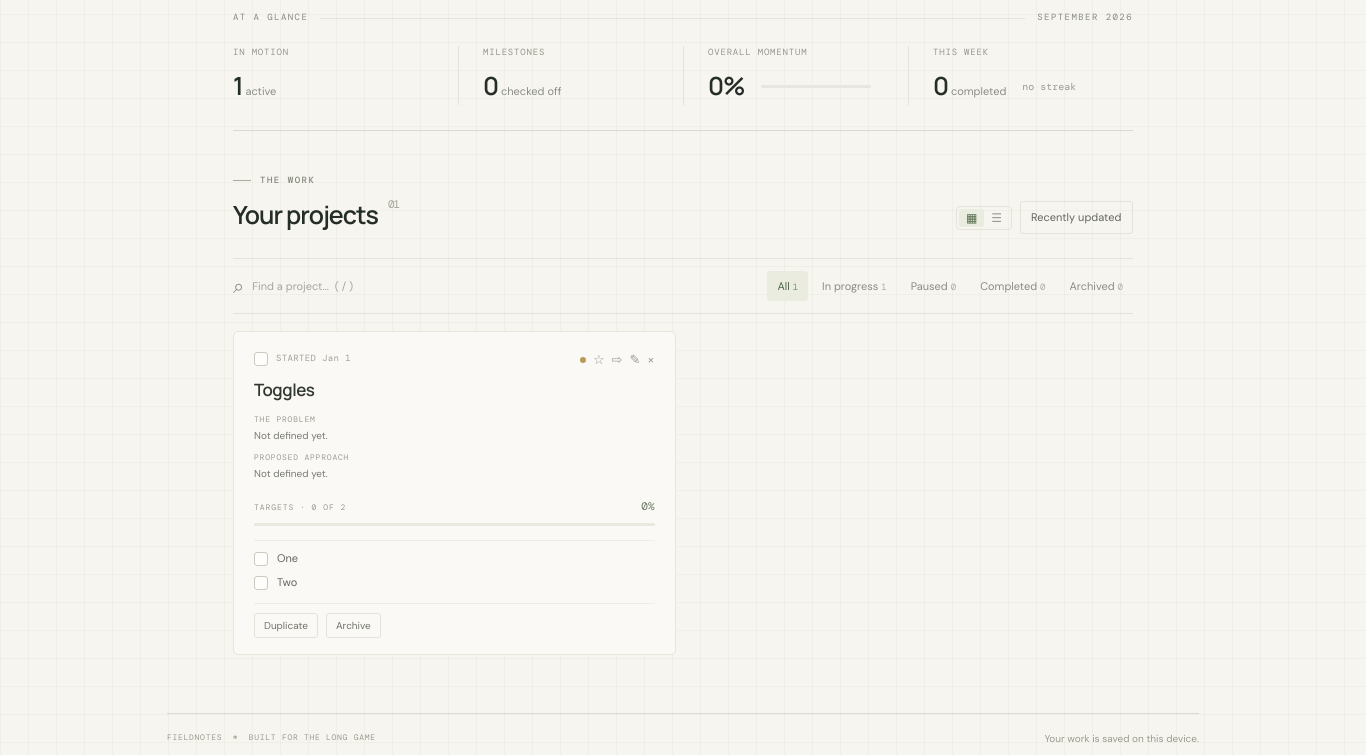
Test: App: toggling targets › checks a target and updates the percentage
This screenshot has width=1366, height=755.
(page scrolled)
Expected: the text "0%" in the row of "TARGETS ·" is shown, [641,498,654,515]
Click the checkbox named "mark one complete" at [261, 559], box [254,552,268,566]
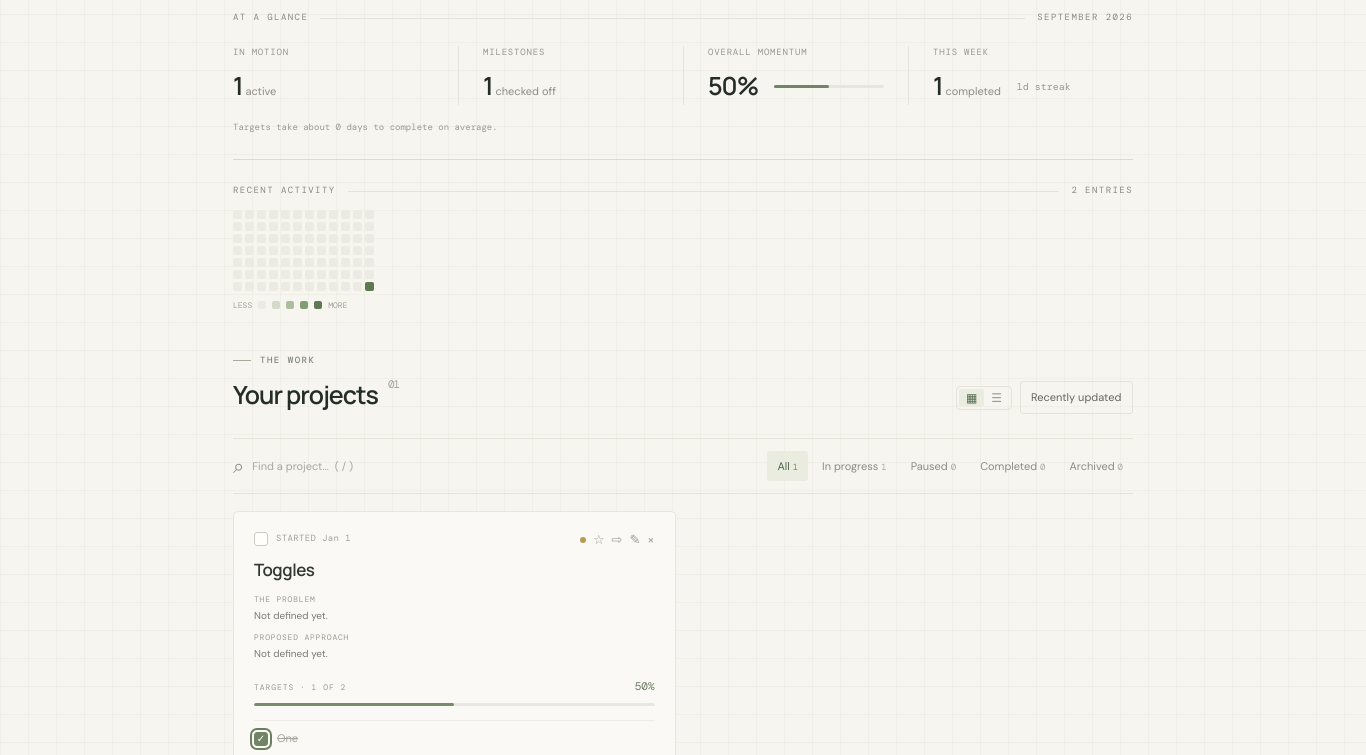
Result: the text "50%" in the row of "TARGETS ·" is shown at [635,678,654,695]
